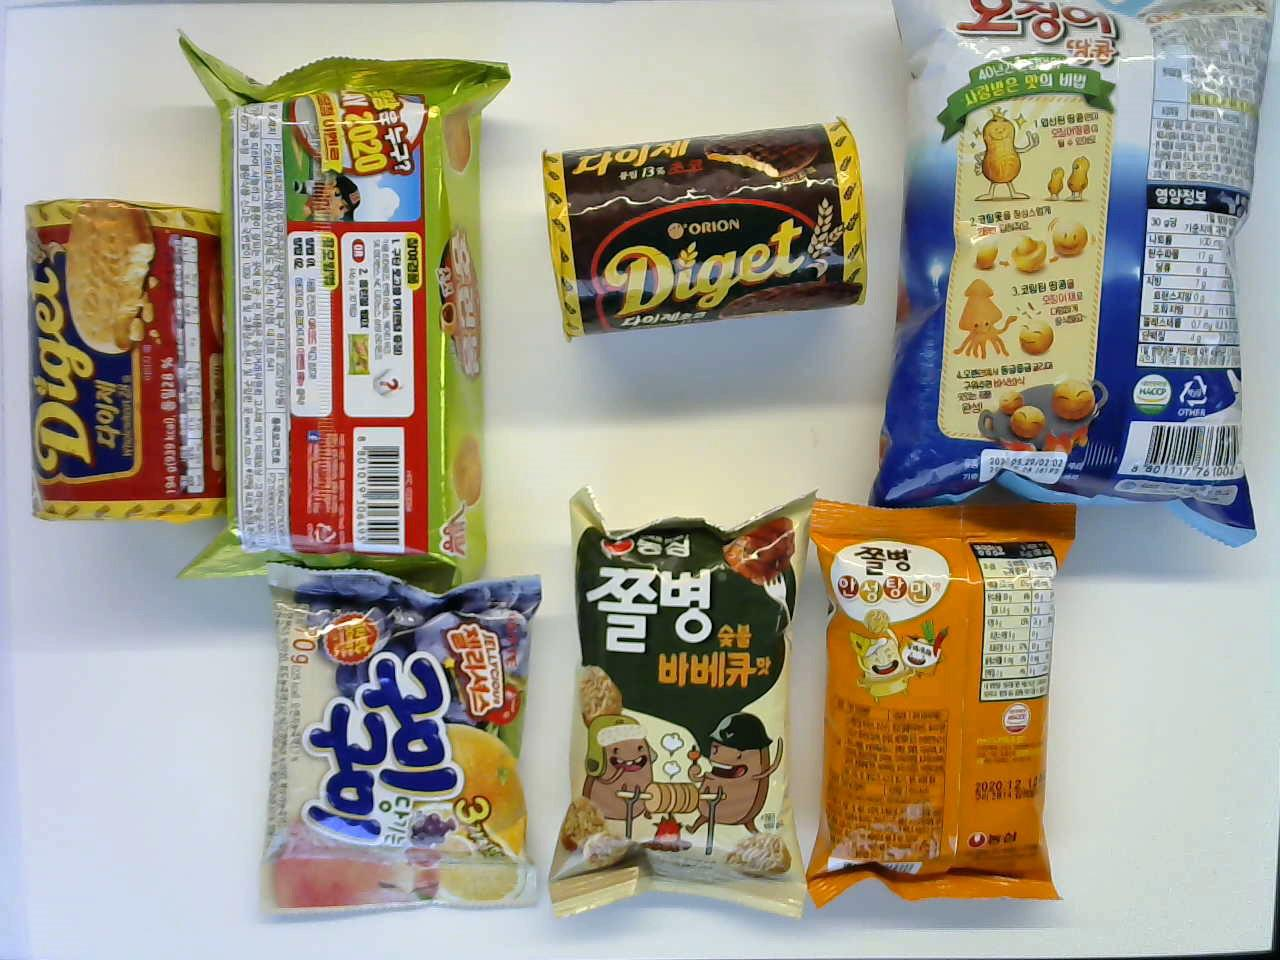diget_choco: (539, 119, 870, 352)
diget_ori: (19, 201, 221, 519)
gumi_gumi: (256, 571, 542, 913)
homerunball: (174, 35, 510, 584)
jjolbyung_noodle: (813, 500, 1063, 899)
jjolbyung_ori: (569, 492, 810, 912)
squid_peanut: (869, 0, 1273, 500)
